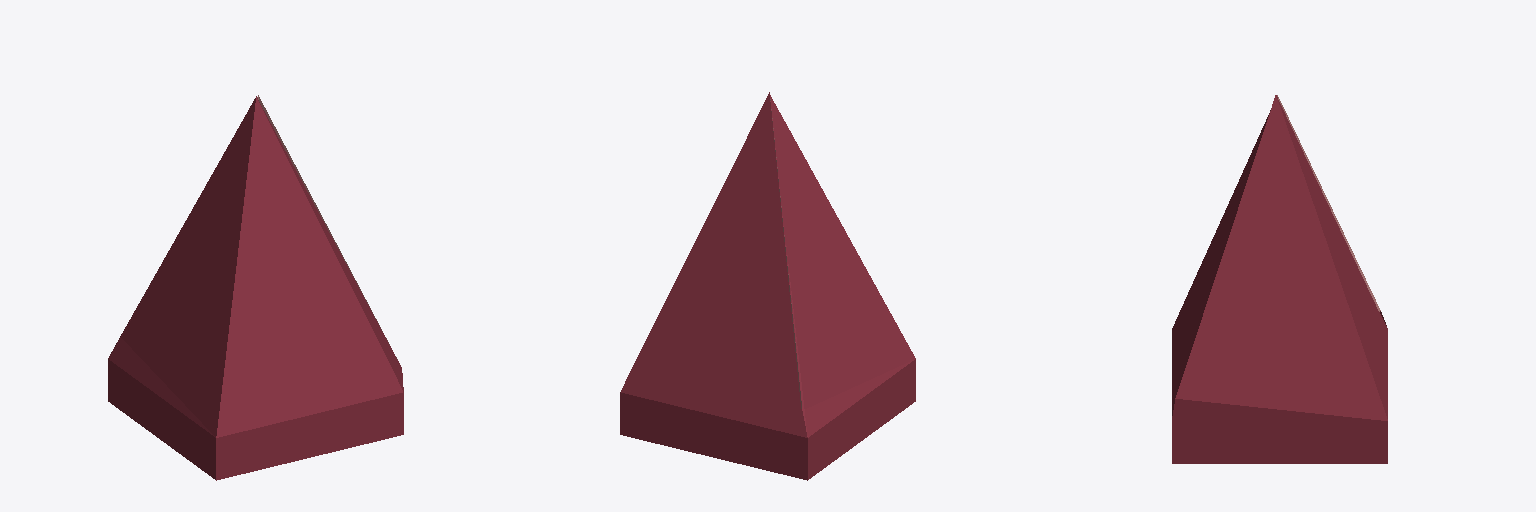
3 renders of one model, left to right at view 1: azimuth 30°, elevation 25°; view 2: azimuth 150°, elevation 25°; view 3: azimuth 270°, elevation 25°, orthographic.
Parts seen in each view (by area): view 1: 立方体; view 2: 立方体; view 3: 立方体.
Part boxes in pixels (x1,y1,x2,y2): 立方体: (108, 95, 403, 480); 立方体: (620, 92, 915, 480); 立方体: (1172, 95, 1387, 463).
Bounding box in the file's own units: 1.16 × 1.92 × 1.16.
Materials: 1 (1 with a texture image).